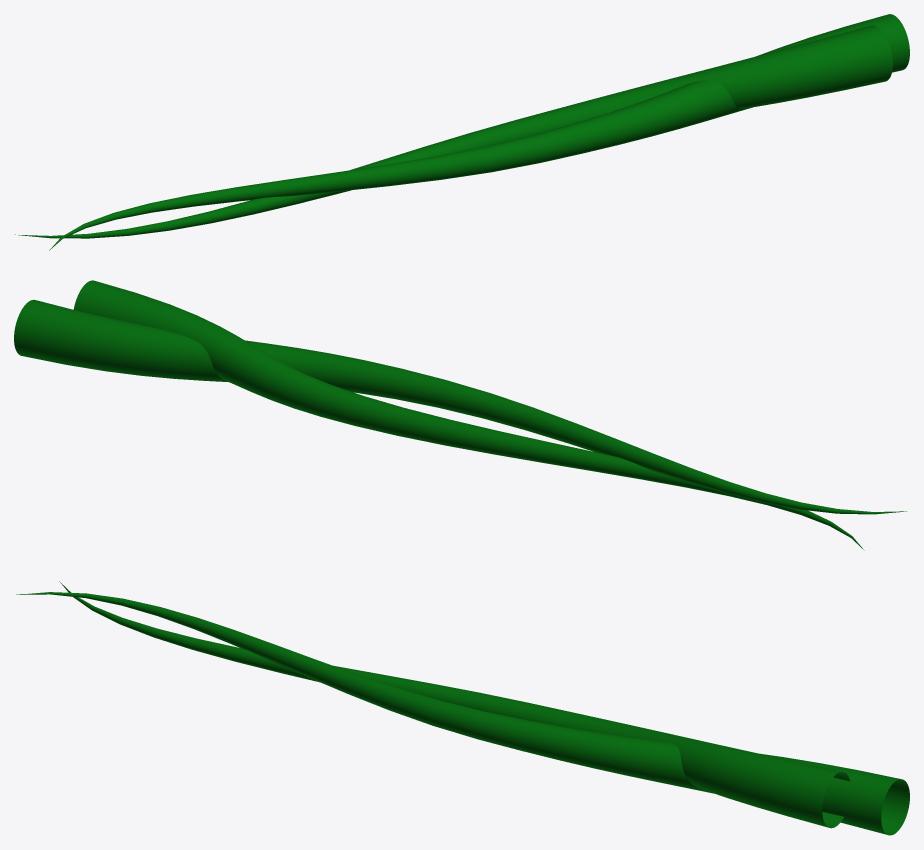
Rendered from Vines 1.fbx.
3 views of the same model, one above another, from view 1: azimuth 30°, elevation 25°; view 2: azimuth 150°, elevation 25°; view 3: azimuth 330°, elevation 25° (orthographic).
Visible parts, largest first — view 1: BezierCurve; view 2: BezierCurve; view 3: BezierCurve.
Part boxes in pixels (left/top/right/bottom): BezierCurve: left=15, top=14, right=909, bottom=250; BezierCurve: left=14, top=280, right=906, bottom=550; BezierCurve: left=16, top=581, right=909, bottom=835.
Size of the model in its own units: 854 by 61.94 by 97.3.
